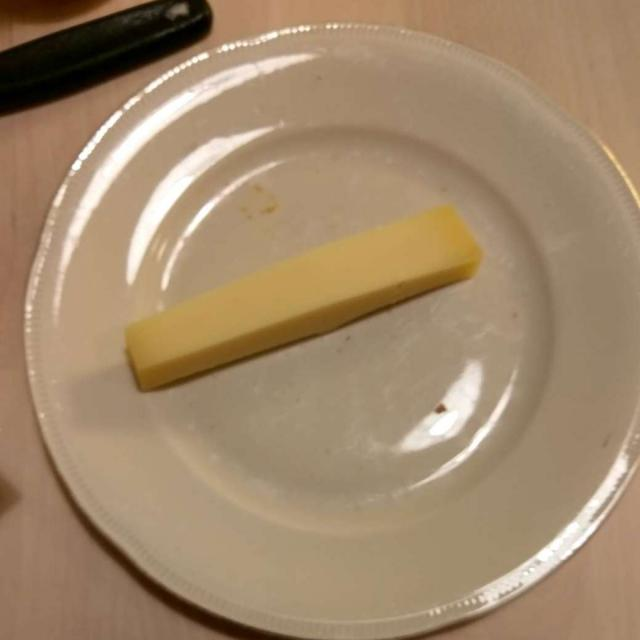hard-cheese: (130, 210, 480, 387)
